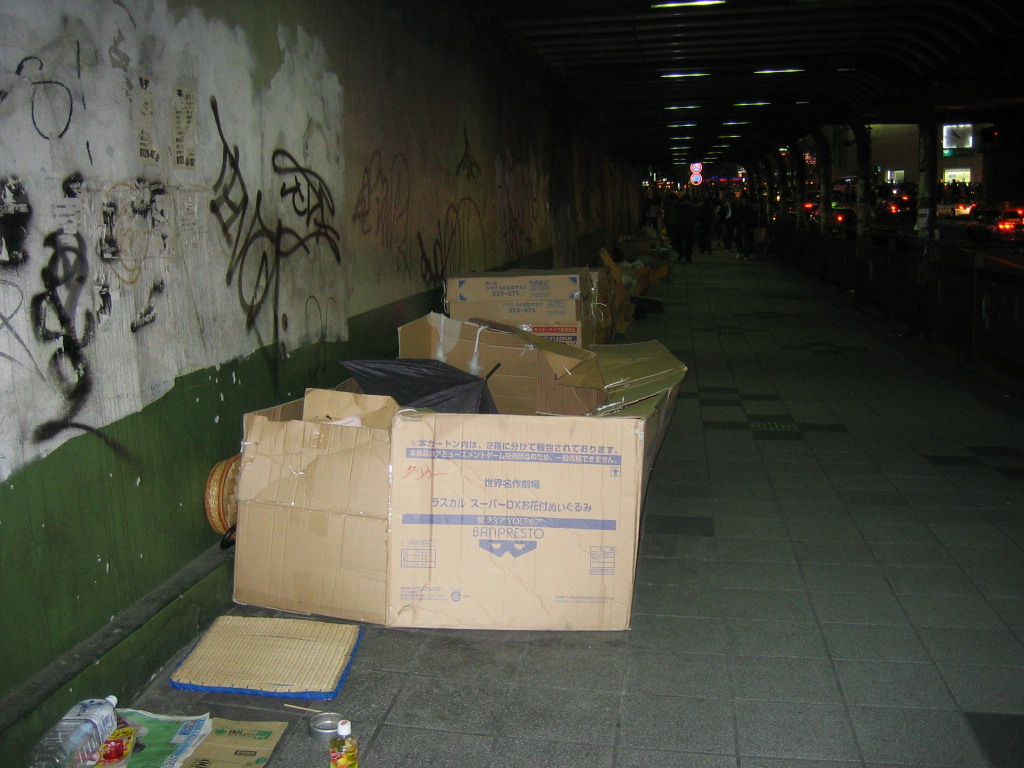bottle: (29, 691, 127, 763), (329, 719, 357, 768)
box: (248, 371, 645, 634), (447, 270, 616, 376)
